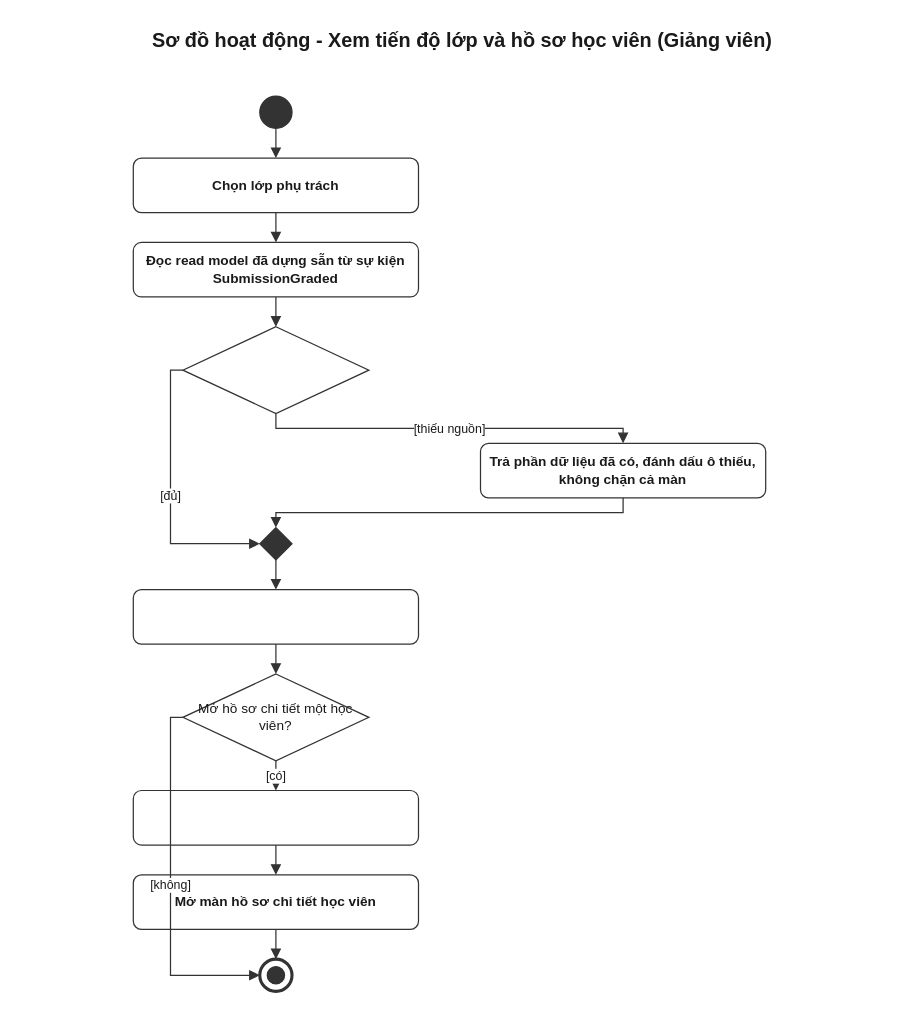
This 923x1014 diagram has some shape labels left out. The shapes that lost their labels are listed below. From the top down, each one's box as (x1, y1, x2, y2) in pixels, then its label:
(182, 326, 369, 414): Mọi nguồn số liệu đều phản hồi?
(132, 588, 418, 644): Hiện điểm trung bình lớp, bảng học viên, khối Cần hỗ trợ
(132, 789, 418, 845): Đọc chỉ số bài nộp trong phạm vi lớp đang xét
